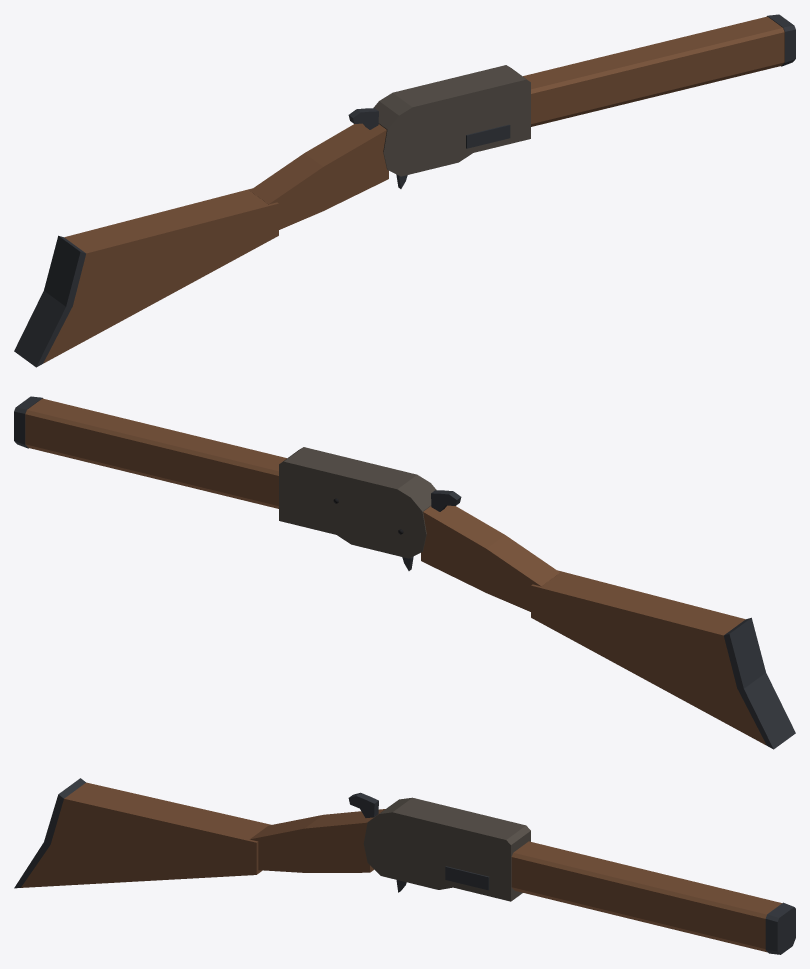
The model's file is winchester_1886_base.fbx.
3 renders of one model, top to bottom at view 1: azimuth 30°, elevation 25°; view 2: azimuth 150°, elevation 25°; view 3: azimuth 330°, elevation 25°, orthographic.
Visible parts, largest first — view 1: winchester_1886_base; view 2: winchester_1886_base; view 3: winchester_1886_base.
Boxes of the visible parts, box(x1,y1,x2,y2) form: winchester_1886_base: box(14, 14, 795, 367); winchester_1886_base: box(14, 396, 795, 749); winchester_1886_base: box(14, 778, 795, 954).
Bounding box in the file's own units: 0.791 × 0.166 × 0.04.
